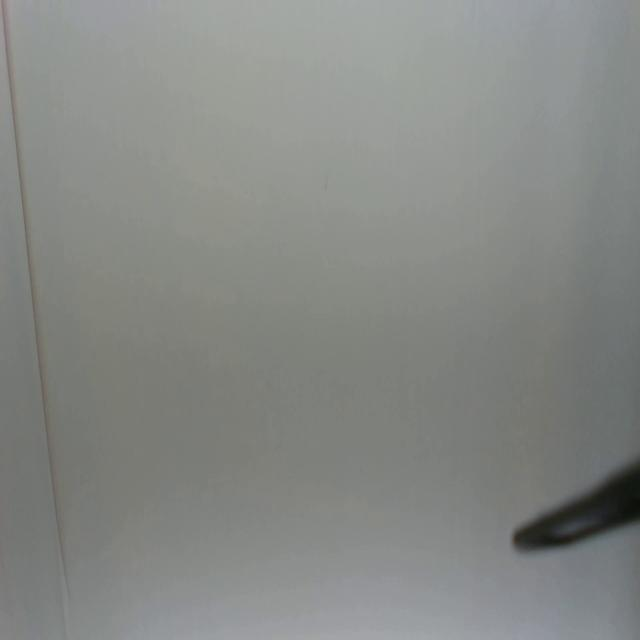crease: (0, 0, 71, 608)
